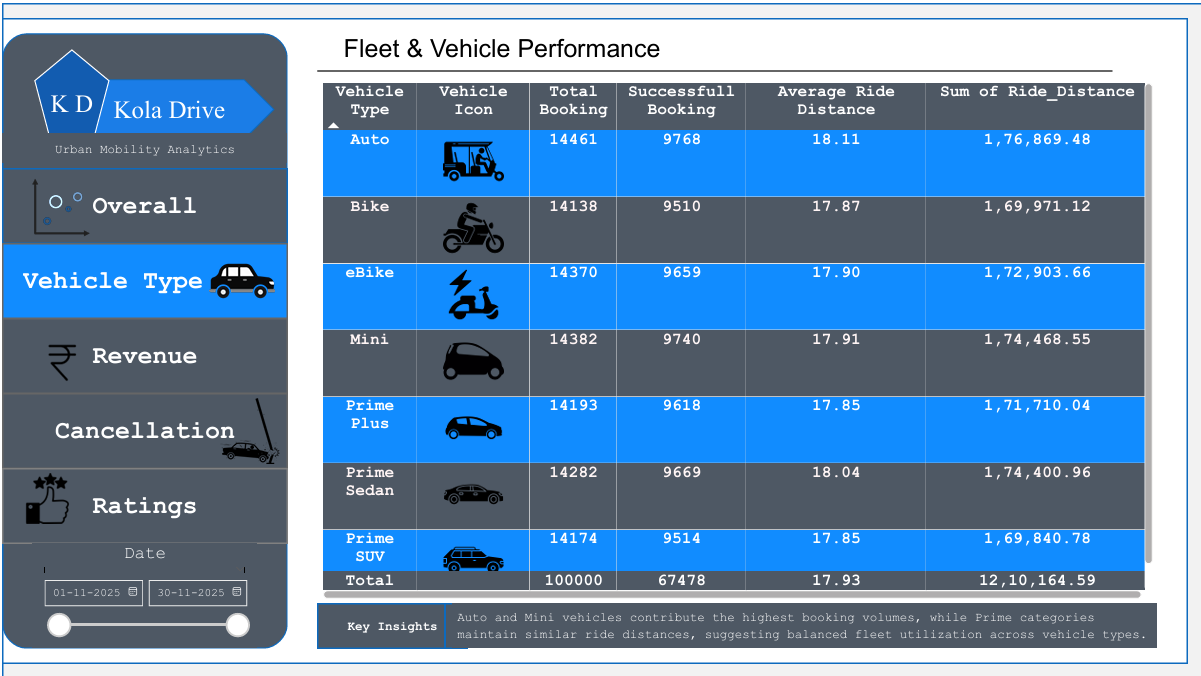

The page's visual inventory and layout, read from the dashboard file:
{"tool":"powerbi","page":{"name":"Vehicle Type","canvas":[1280,720],"ordinal":2},"visuals":[{"type":"shape","box":[0,0,1280,720],"z":0},{"type":"shape","box":[0,16,1264,688],"z":1000},{"type":"shape","box":[0,32,304,656],"z":2000},{"type":"shape","box":[0,176,304,80],"z":3000},{"type":"shape","box":[98.2,80.7,192,64],"z":4000},{"type":"shape","box":[0,256,304,80],"z":5000},{"type":"shape","box":[34.2,48.7,80,96],"z":6000},{"type":"shape","box":[0,336,304,80],"z":7000},{"type":"shape","box":[0,416,304,80],"z":8000},{"type":"shape","box":[0,139,304,32],"z":9000},{"type":"shape","box":[0,496,304,80],"z":10000},{"type":"image","box":[0,496,96,64],"z":11000},{"type":"image","box":[224,416,80,80],"z":12000},{"type":"image","box":[32,352,64,64],"z":13000},{"type":"image","box":[208,256,96,80],"z":14000},{"type":"image","box":[16,176,96,80],"z":15000},{"type":"shape","box":[336,64,848,16],"z":16000},{"type":"shape","box":[352,32,880,32],"z":17000},{"type":"slicer","title":"Date","fields":{"Values":["ola_bookings.Date"]},"box":[32,576,240,112],"z":18000},{"type":"tableEx","fields":{"Values":["Kola_bookings.Vehicle_Type","Kola_bookings.Vehicle_Icon","Kola_bookings.Total Booking","Kola_bookings.Successfull_Booking","Avg(Kola_bookings.Ride_Distance)","Sum(Kola_bookings.Ride_Distance)1","select"]},"box":[336,80,896,624],"z":19000}]}

Visuals, with their boxes in screenshot pixels (x1, y1, x2, y2), scaled from the page's 1280x720 canvas onto the 1201x676 screenshot:
shape: detection(0, 0, 1200, 675)
shape: detection(0, 15, 1186, 661)
shape: detection(0, 30, 285, 646)
shape: detection(0, 165, 285, 240)
shape: detection(92, 76, 272, 136)
shape: detection(0, 240, 285, 315)
shape: detection(32, 46, 107, 136)
shape: detection(0, 315, 285, 391)
shape: detection(0, 391, 285, 466)
shape: detection(0, 131, 285, 161)
shape: detection(0, 466, 285, 541)
image: detection(0, 466, 90, 526)
image: detection(210, 391, 285, 466)
image: detection(30, 330, 90, 391)
image: detection(195, 240, 285, 315)
image: detection(15, 165, 105, 240)
shape: detection(315, 60, 1111, 75)
shape: detection(330, 30, 1156, 60)
"Date" slicer: detection(30, 541, 255, 646)
tableEx - Kola_bookings.Vehicle_Type x Kola_bookings.Vehicle_Icon: detection(315, 75, 1156, 661)
